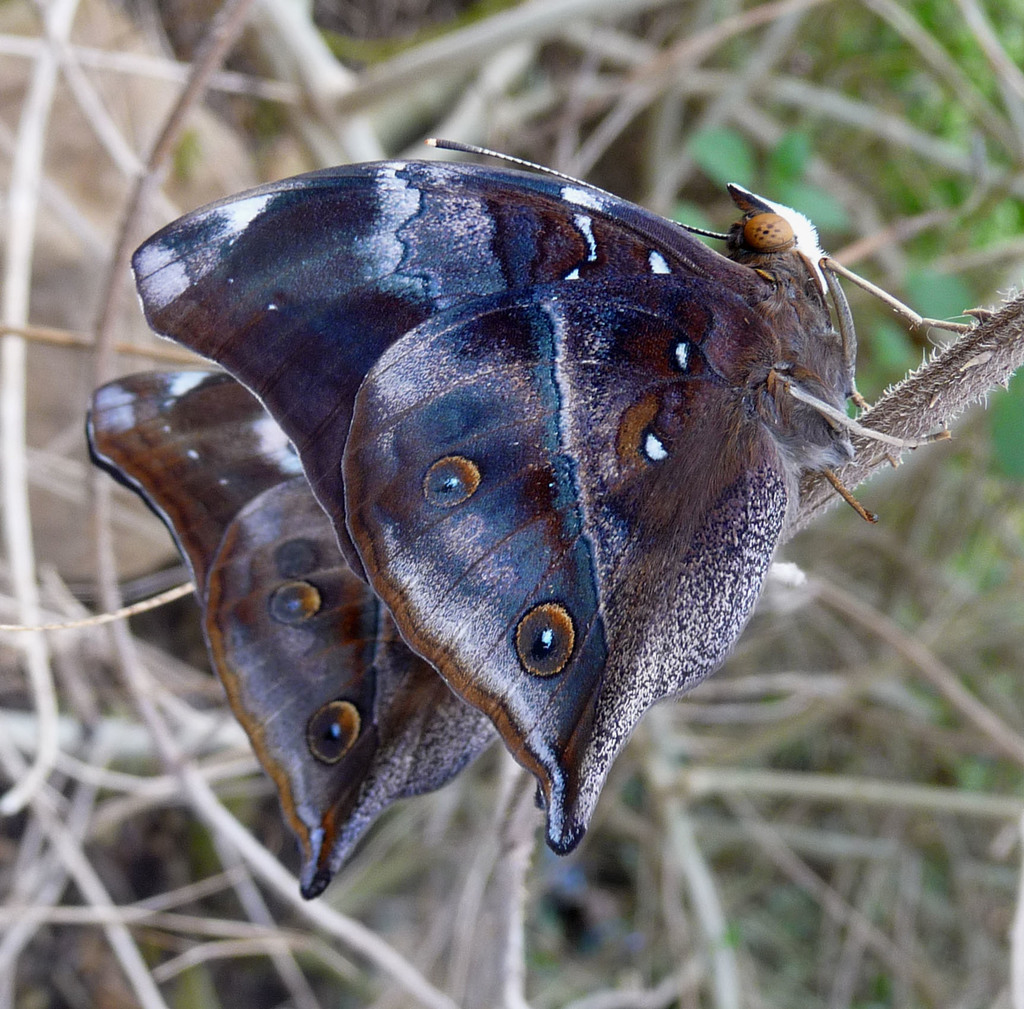Butterfly: (77, 145, 863, 813)
